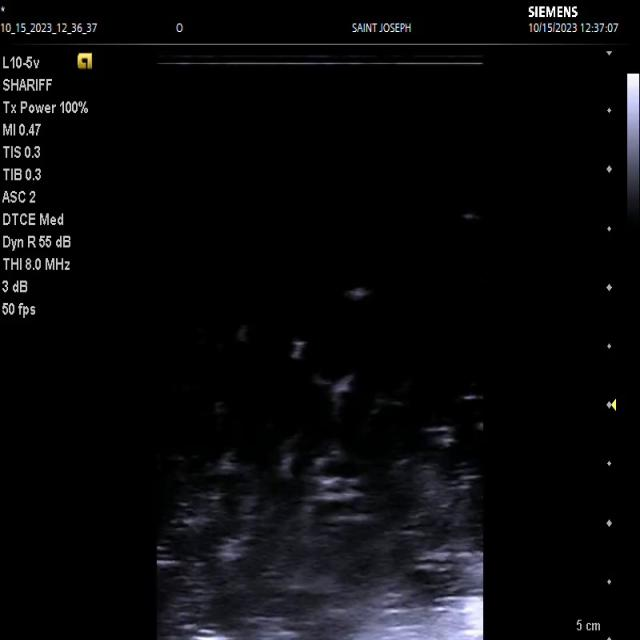tissue: (359, 592, 482, 640)
